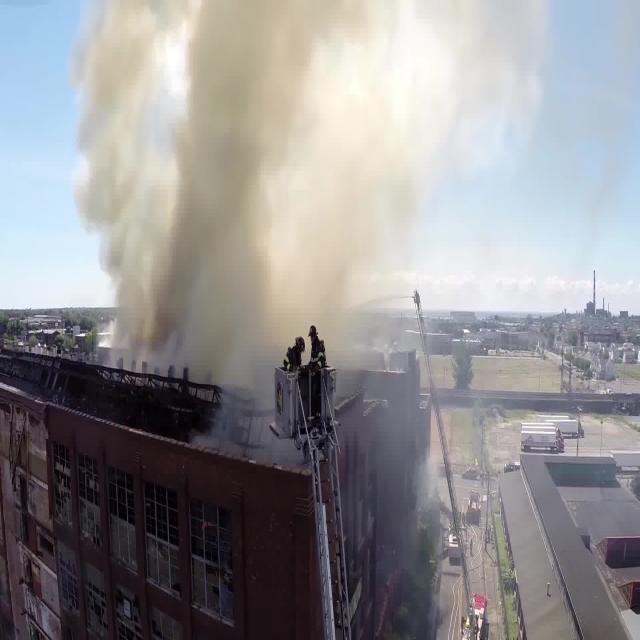Smoke: (124, 45, 278, 362)
